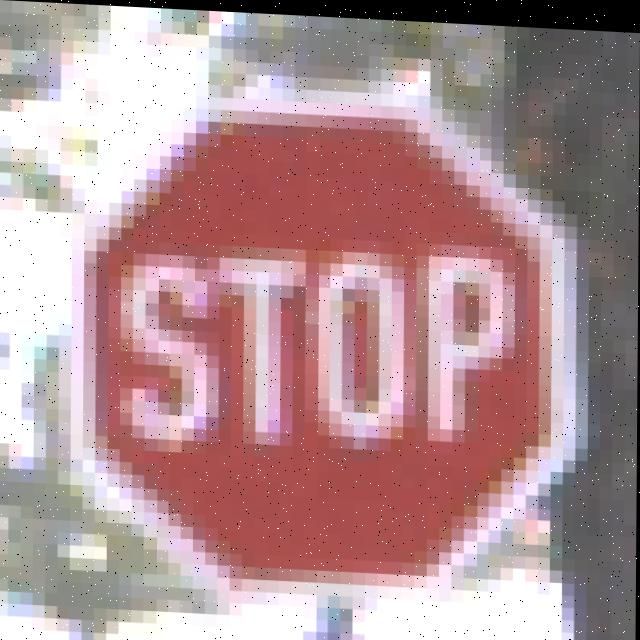stop: (62, 67, 570, 592)
